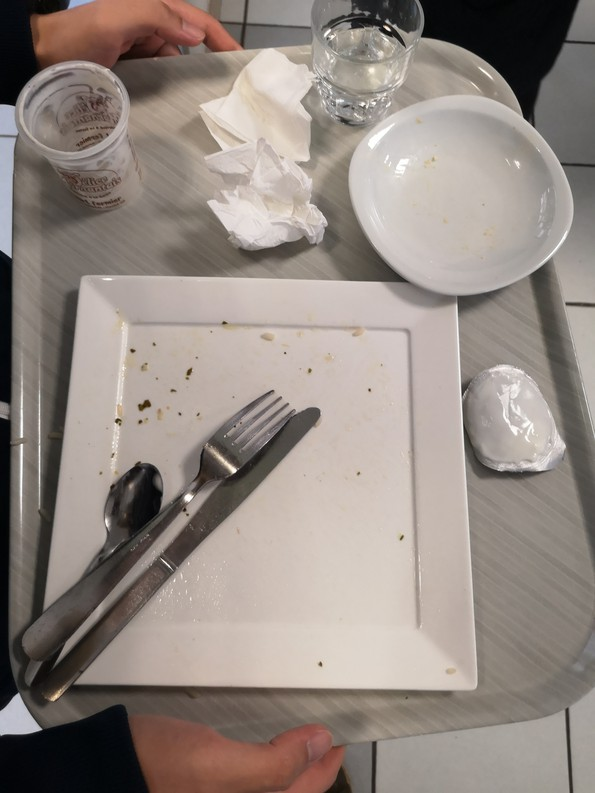cup: (321, 3, 428, 113)
cutlery: (1, 378, 339, 720)
trash: (199, 65, 328, 249), (7, 68, 151, 215), (470, 364, 569, 482)
